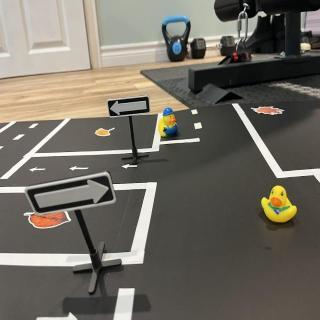duck_regular: (261, 180, 301, 228)
duck_specialty: (157, 109, 181, 141)
road_oneway: (69, 164, 92, 175), (29, 165, 49, 176), (120, 164, 140, 174)
sign_oneway_left: (109, 98, 152, 118)
sign_oneway_right: (28, 171, 117, 215)
